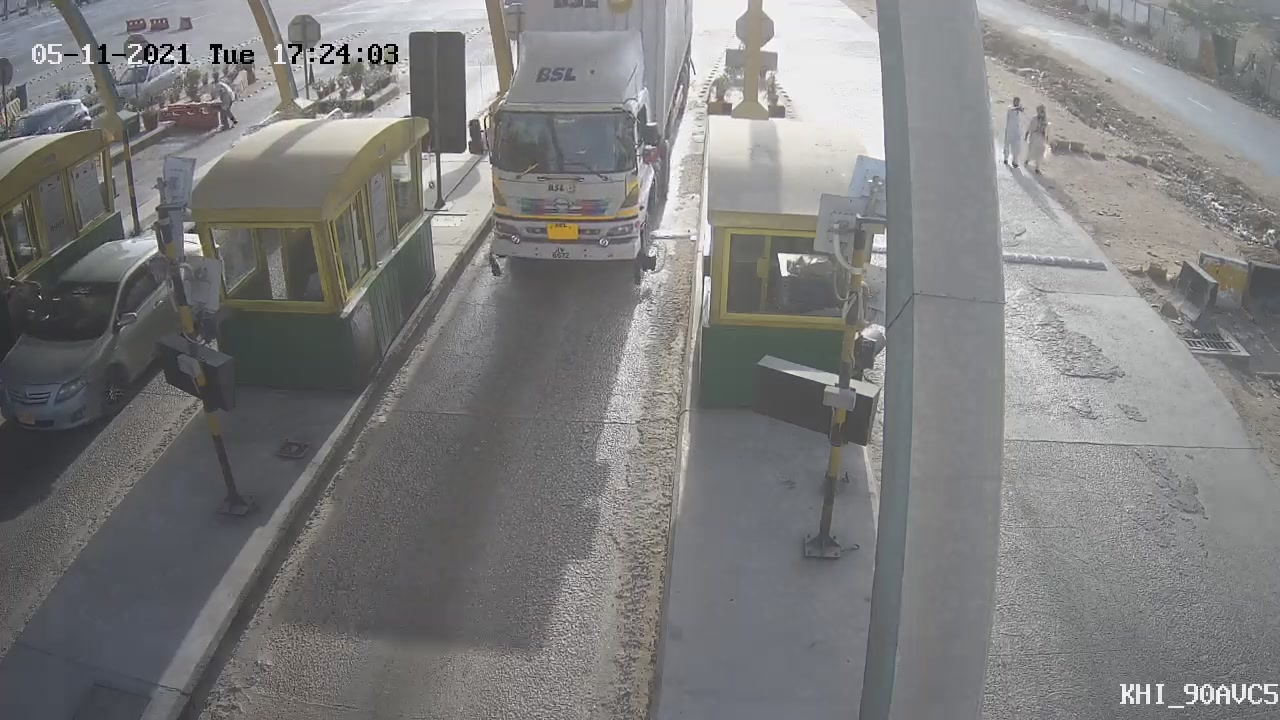F6: (453, 3, 705, 304)
